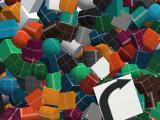Right: (93, 73, 143, 120)
